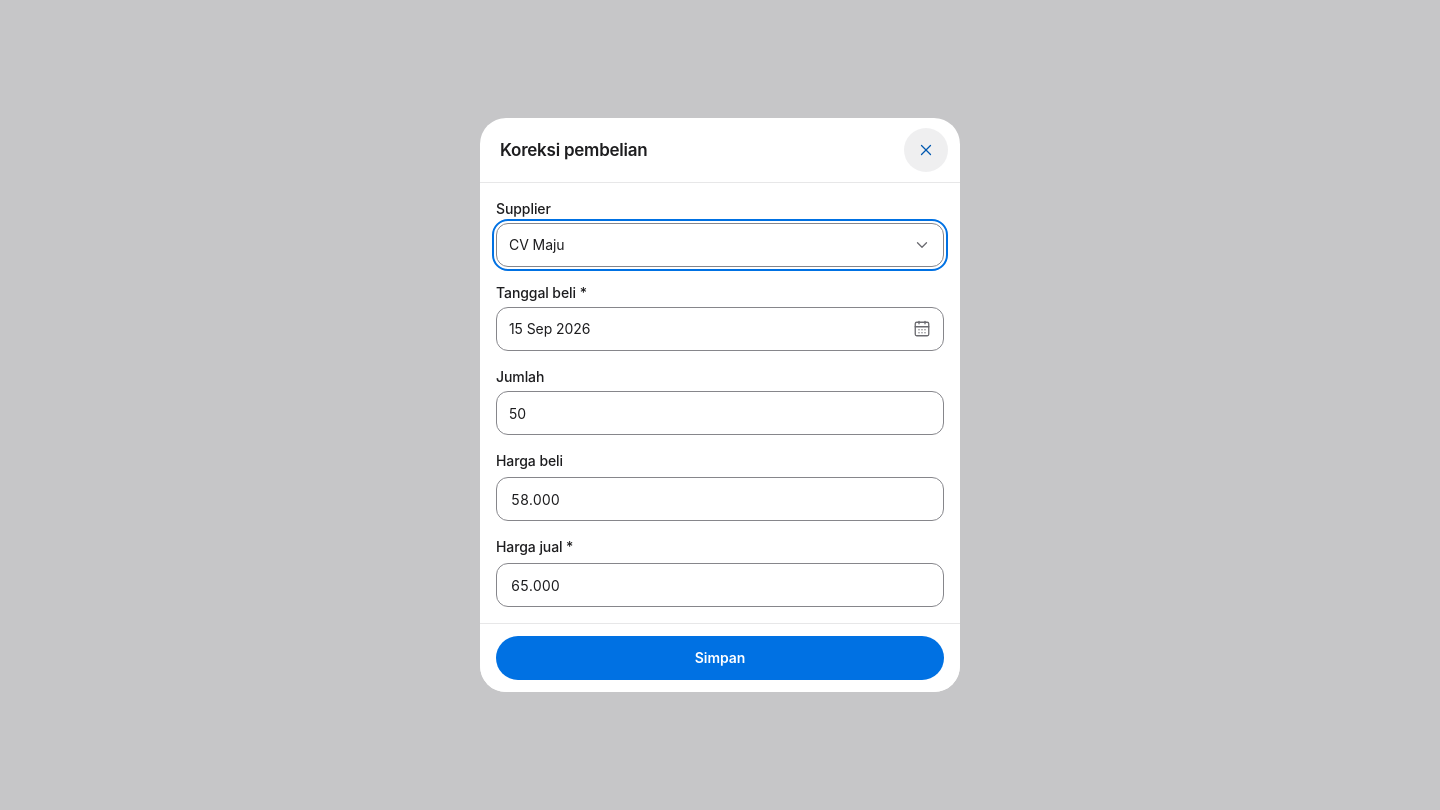
Test: KoreksiPembelianSheet › surfaces a visible error when the write fails, and does not close
Click the button "Simpan".
click(720, 658)  # box left=496, top=636, right=944, bottom=680
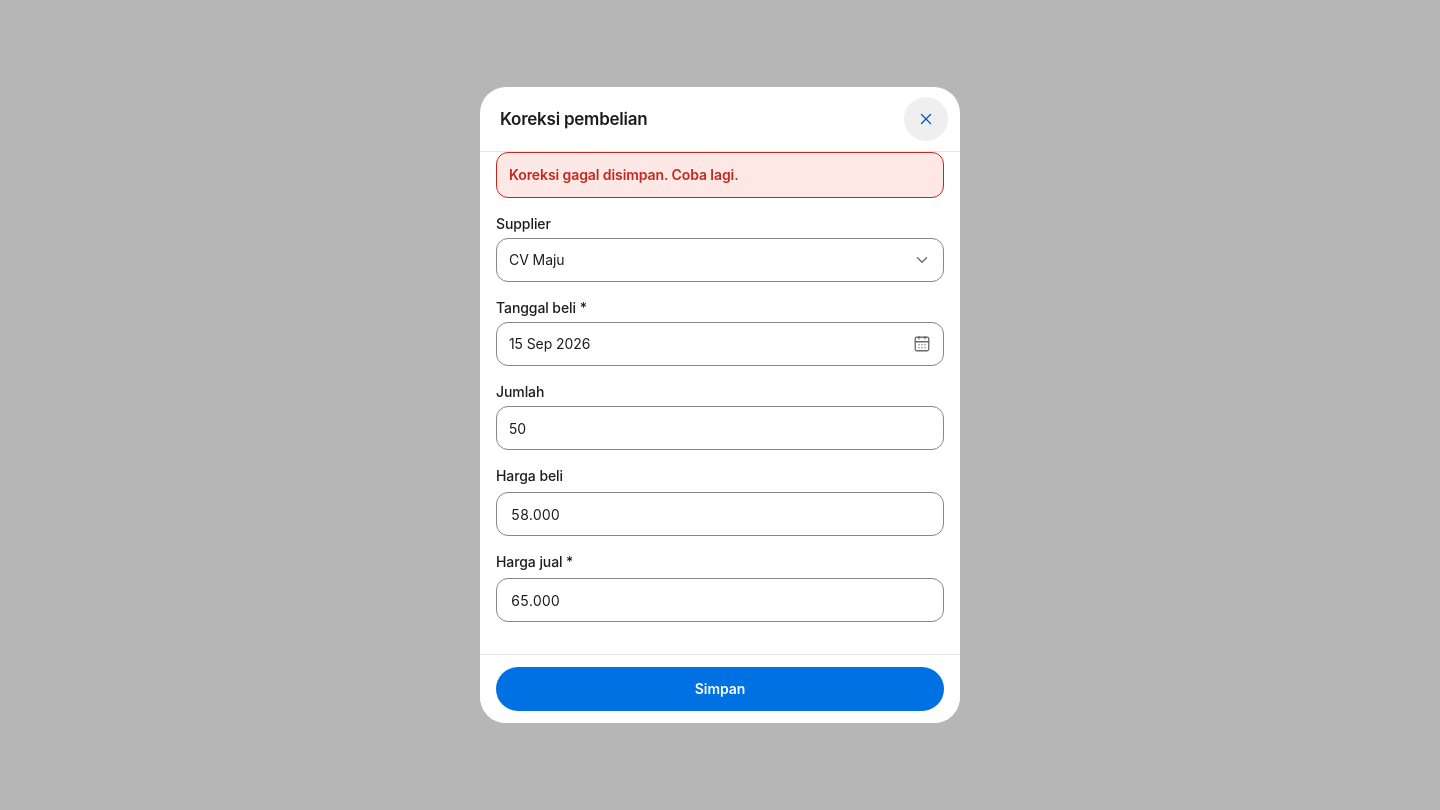
Now the message shows "gagal disimpan", box left=509, top=166, right=738, bottom=183
